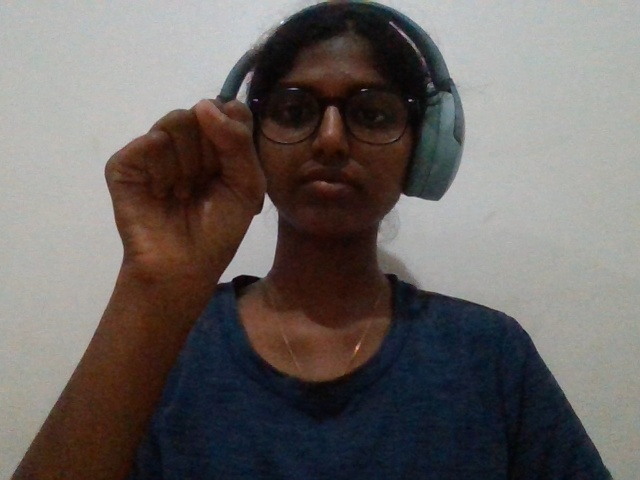Yes: (93, 80, 283, 339)
